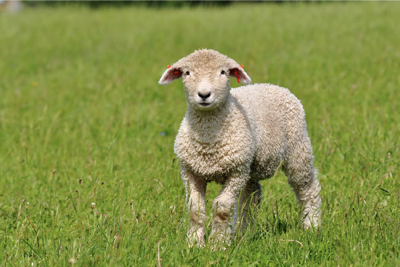koyun: (161, 45, 325, 247)
